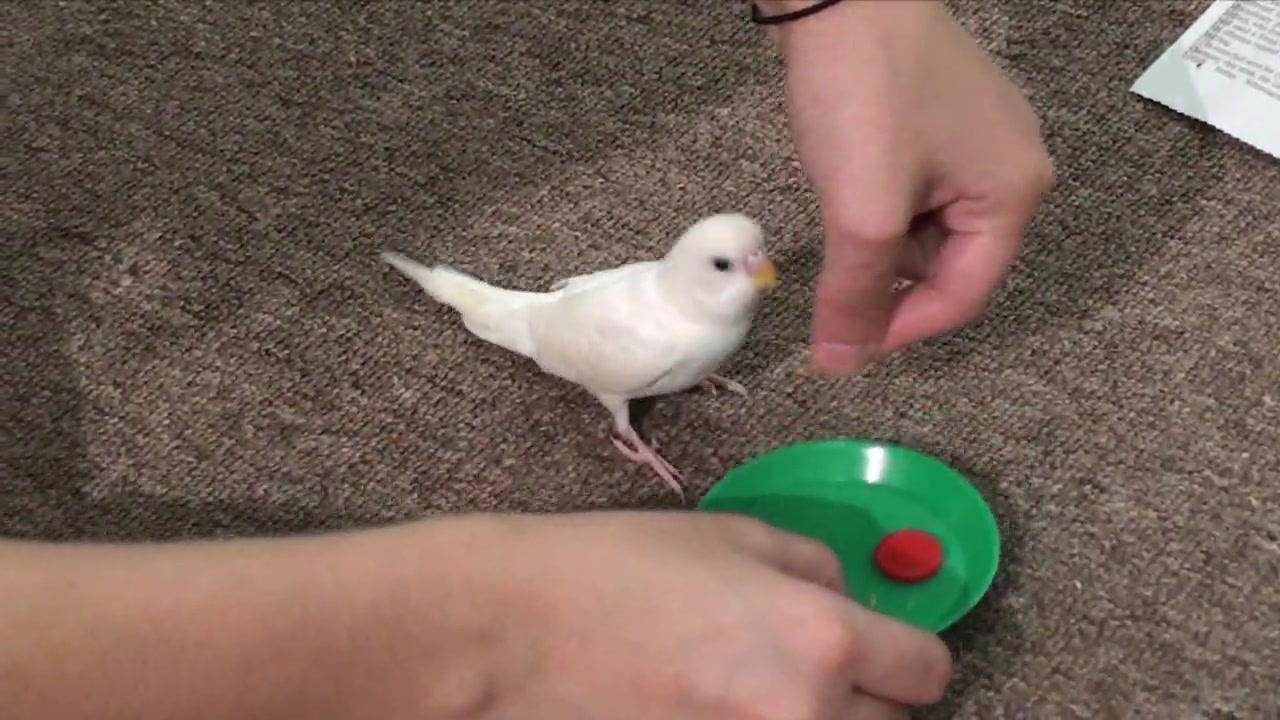bird: (377, 210, 784, 498)
